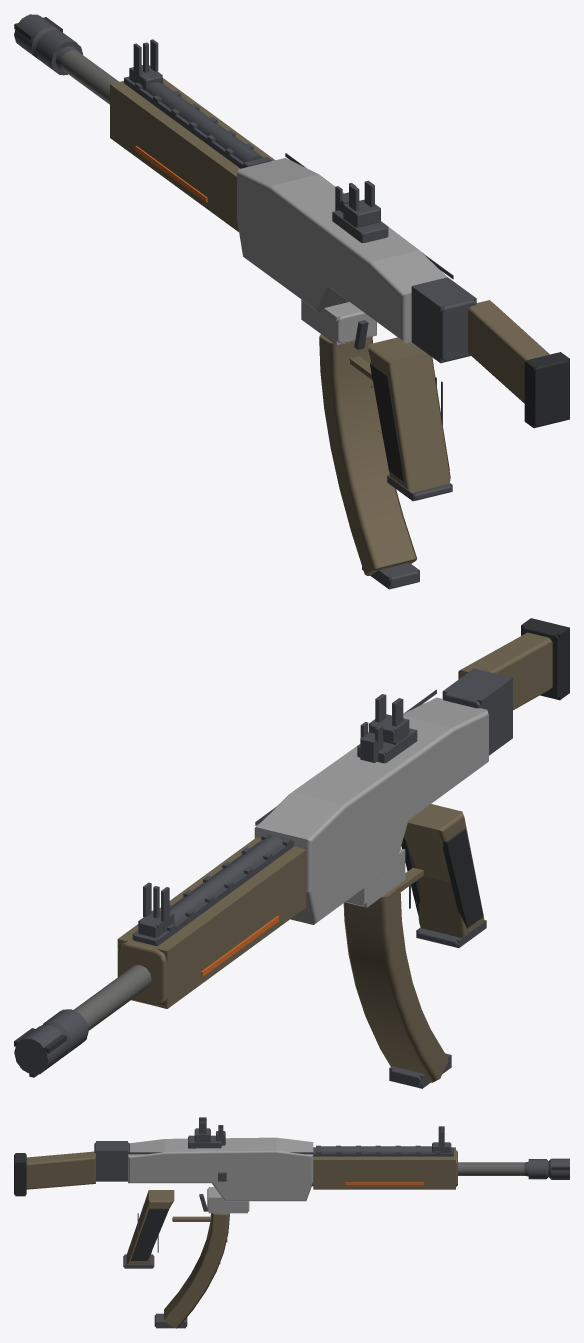
Rendered from a_ash.glb.
The picture shows the model from 3 angles, top to bottom: view 1: azimuth 30°, elevation 25°; view 2: azimuth 150°, elevation 25°; view 3: azimuth 270°, elevation 25°; orthographic projection. The views are drawn at different scales.
Visible parts, largest first — view 1: L0, L1; view 2: L0, L1; view 3: L0, L1.
Boxes of the visible parts, x1,y1,x2,y2 form: L0: (14,14,569,588); L1: (15,15,569,589); L0: (14,619,569,1087); L1: (14,618,569,1088); L0: (14,1117,569,1328); L1: (15,1117,569,1328).
Size of the model in its own units: 0.0582 by 0.316 by 0.7802.
